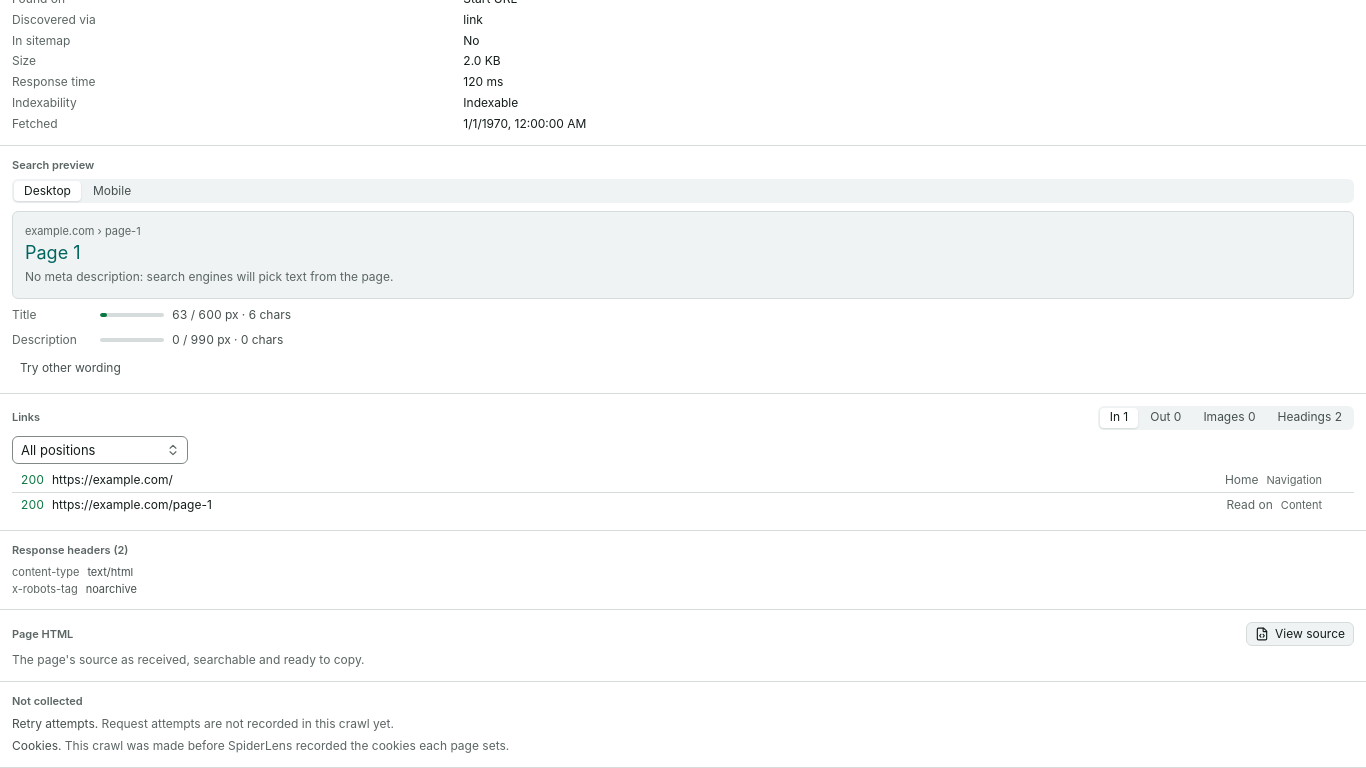
Test: view_source_opens_the_page_html_viewer
The width and height of the screenshot is (1366, 768).
(page scrolled)
Click the button "View source". click: (1300, 634)
box: [1246,622,1354,646]
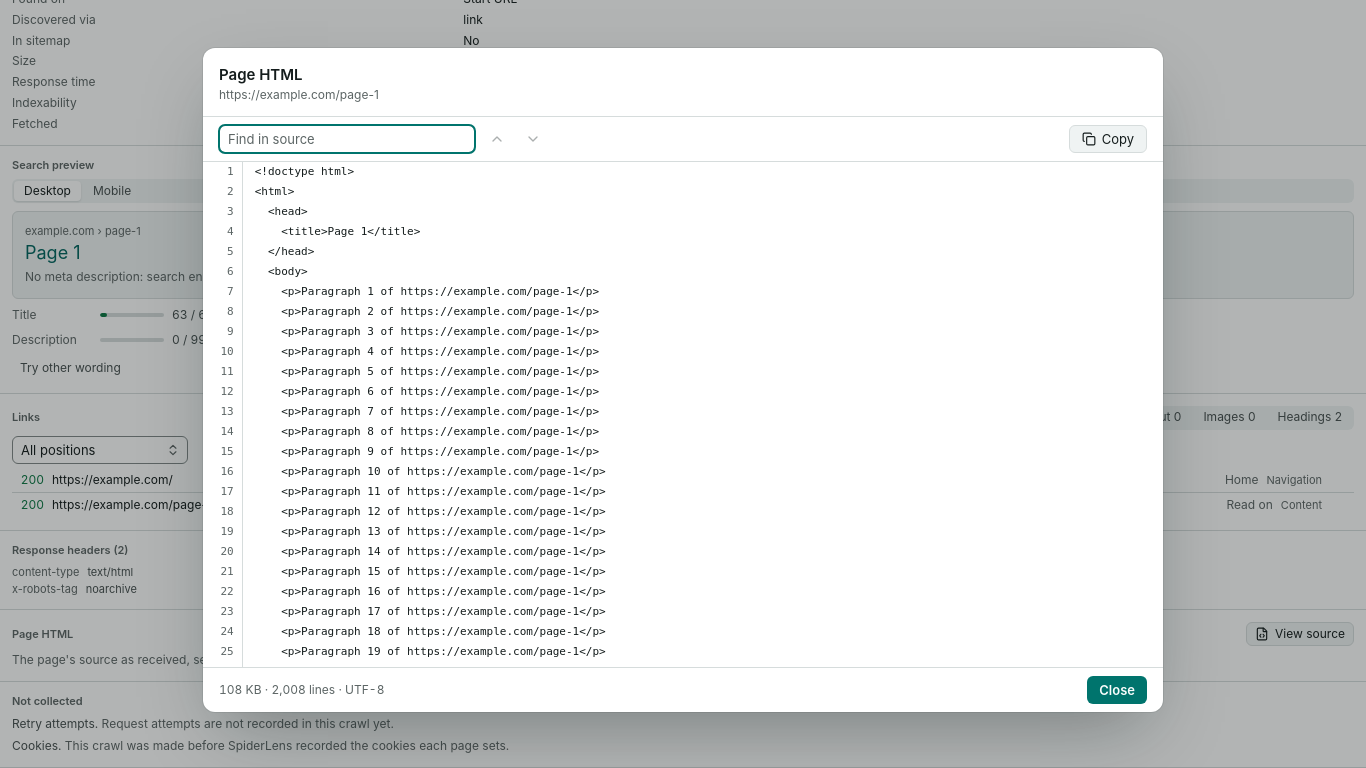
Expected: the text "<!doctype html>" is shown, [243,162,354,182]
Expected: the text "https://example.com/page-1" is shown, [219,87,379,102]
Expected: the text with test id "html-facts" reads "108 KB · 2,008 lines · UTF-8", [219,682,384,697]
Click the button "Close". click: (1117, 690)
box: [1087,676,1147,704]
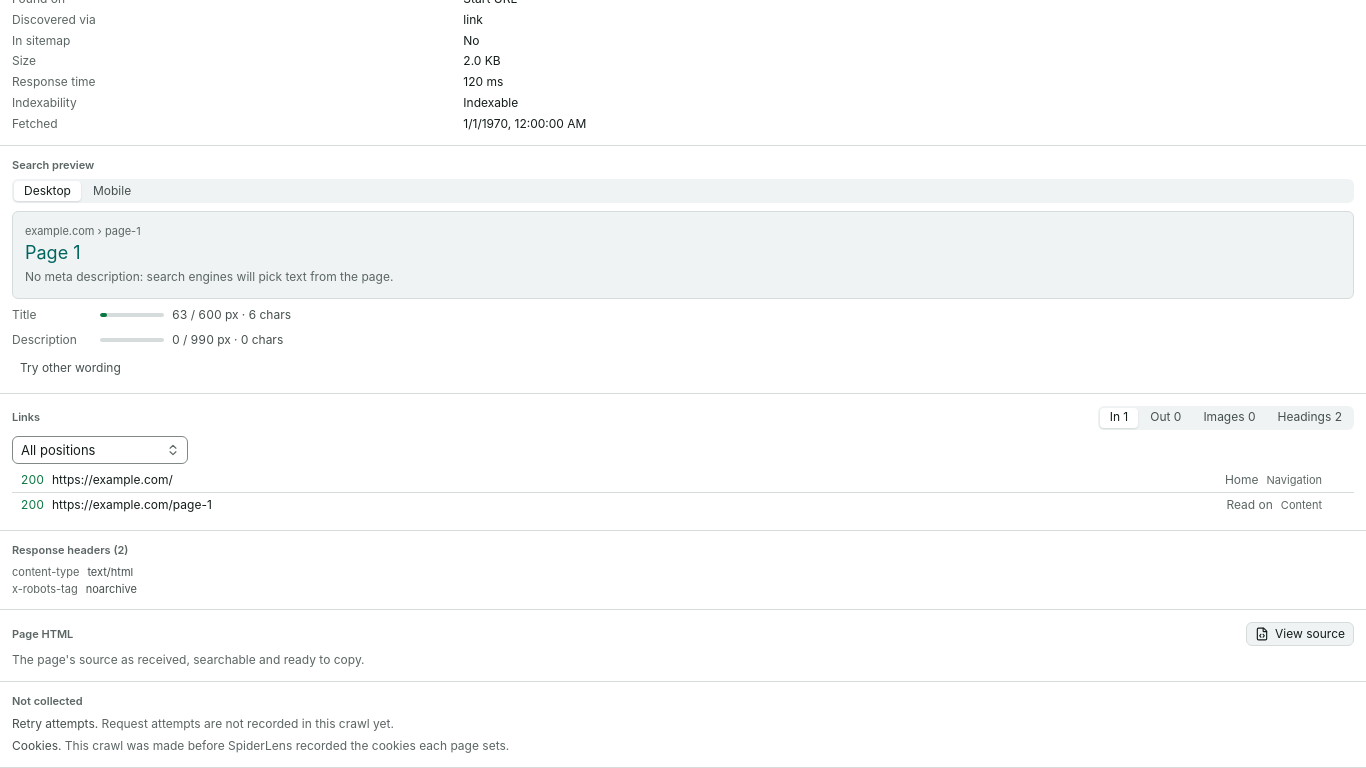
Expected: the dialog is gone
